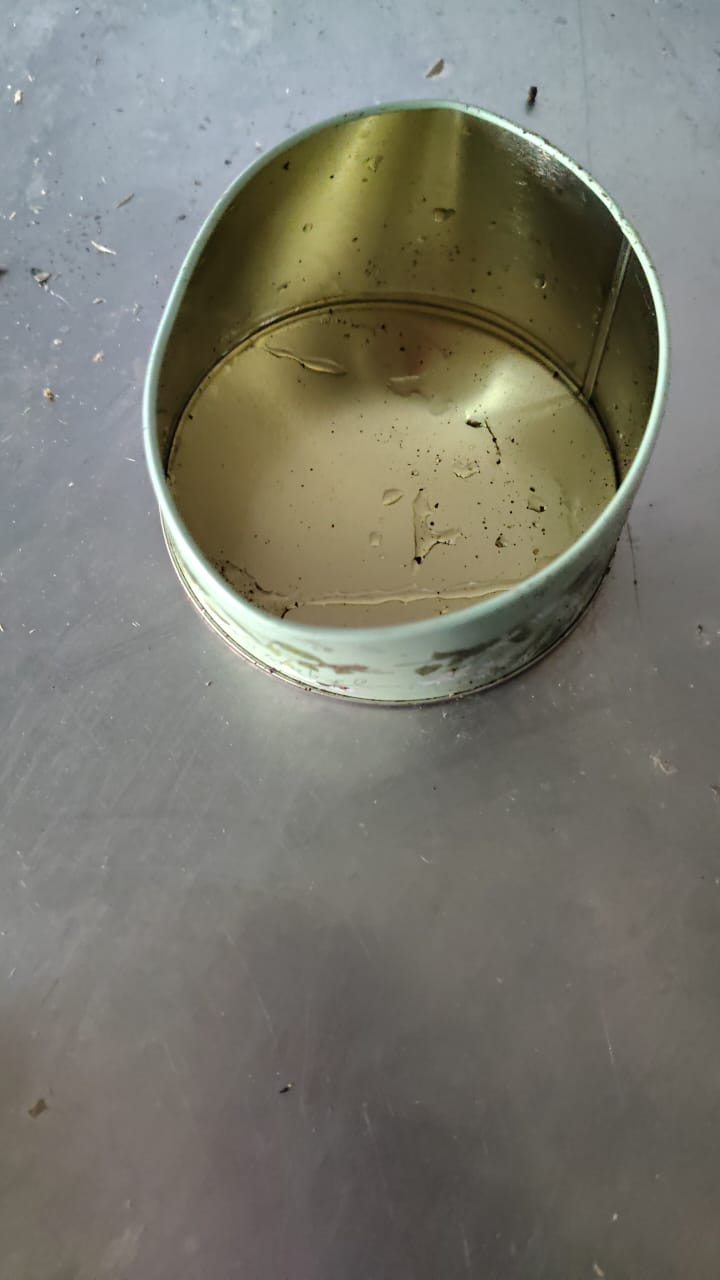Metal: (136, 98, 671, 703)
